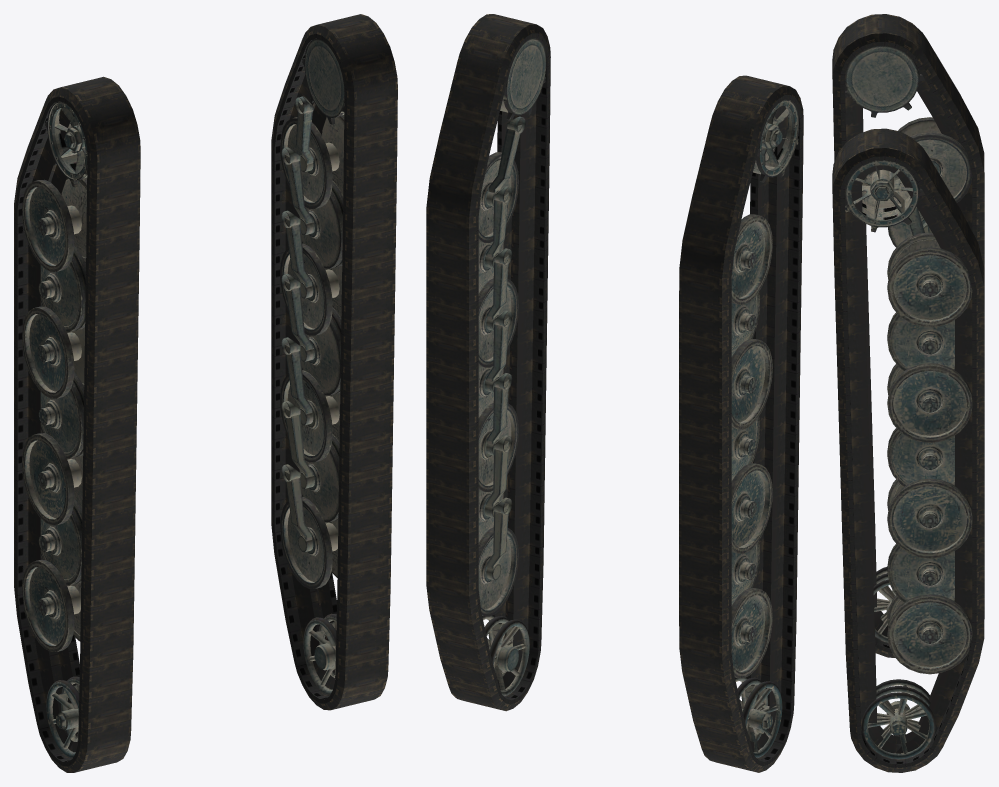
File: Chassis.glb
3 renders of one model, left to right at view 1: azimuth 30°, elevation 25°; view 2: azimuth 150°, elevation 25°; view 3: azimuth 270°, elevation 25°, orthographic. The views are drawn at different scales.
Parts seen in each view (by area): view 1: set_1_group_0, set_3_group_0, set_5_group_0, set_4_group_0, set_2_group_0, set_0_group_0; view 2: set_1_group_0, set_3_group_0, set_5_group_0, set_4_group_0, set_2_group_0, set_0_group_0; view 3: set_5_group_0, set_3_group_0, set_1_group_0, set_4_group_0, set_2_group_0, set_0_group_0.
Boxes of the visible parts, x1,y1,x2,y2 form: set_1_group_0: (14,76,140,772); set_3_group_0: (271,14,397,710); set_5_group_0: (280,38,344,695); set_4_group_0: (22,101,87,758); set_2_group_0: (335,568,390,679); set_0_group_0: (78,631,133,742); set_1_group_0: (679,75,803,772); set_3_group_0: (426,14,550,711); set_5_group_0: (478,38,546,696); set_4_group_0: (731,99,798,758); set_2_group_0: (493,540,543,647); set_0_group_0: (747,601,796,709); set_5_group_0: (845,160,972,759); set_3_group_0: (832,128,984,772); set_1_group_0: (832,14,984,657); set_4_group_0: (845,45,972,643); set_2_group_0: (845,623,876,731); set_0_group_0: (871,507,876,607).
Bounding box in the file's own units: 2.37 × 5.04 × 1.11.
Materials: 6 (6 with a texture image).
